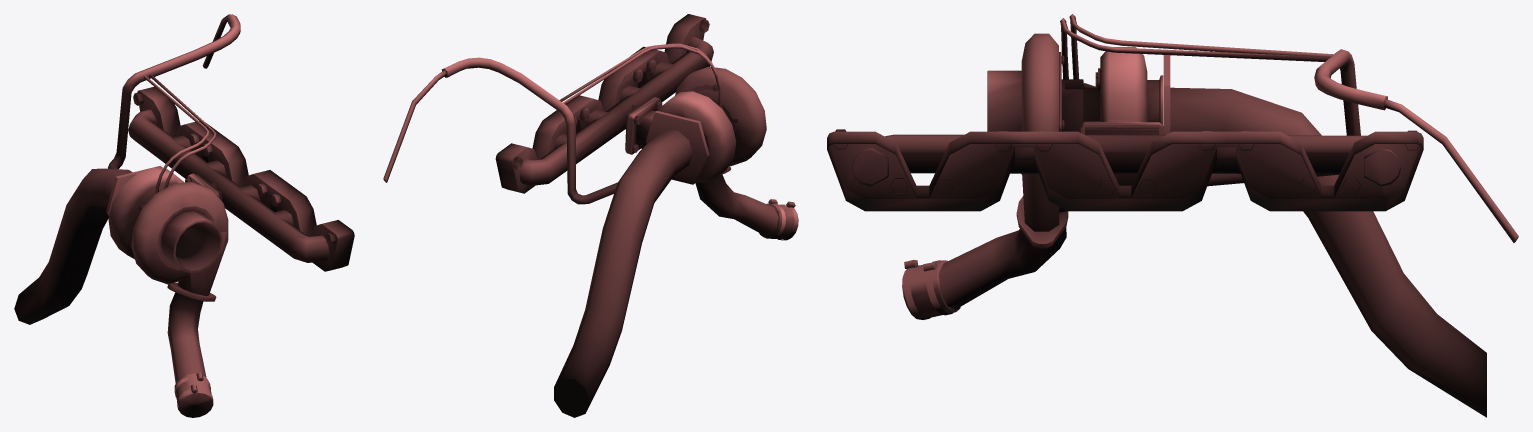
File: JZ_ExhaustManifoldTurbo2.fbx
The picture shows the model from 3 angles, left to right: view 1: azimuth 30°, elevation 25°; view 2: azimuth 150°, elevation 25°; view 3: azimuth 270°, elevation 25°; orthographic projection. The views are drawn at different scales.
Parts seen in each view (by area): view 1: ExhaustManifoldTurbo2; view 2: ExhaustManifoldTurbo2; view 3: ExhaustManifoldTurbo2.
Boxes of the visible parts, x1,y1,x2,y2 form: ExhaustManifoldTurbo2: (14,14,354,417); ExhaustManifoldTurbo2: (383,14,798,417); ExhaustManifoldTurbo2: (827,14,1518,417).
Size of the model in its own units: 47.17 by 57.24 by 81.32.
